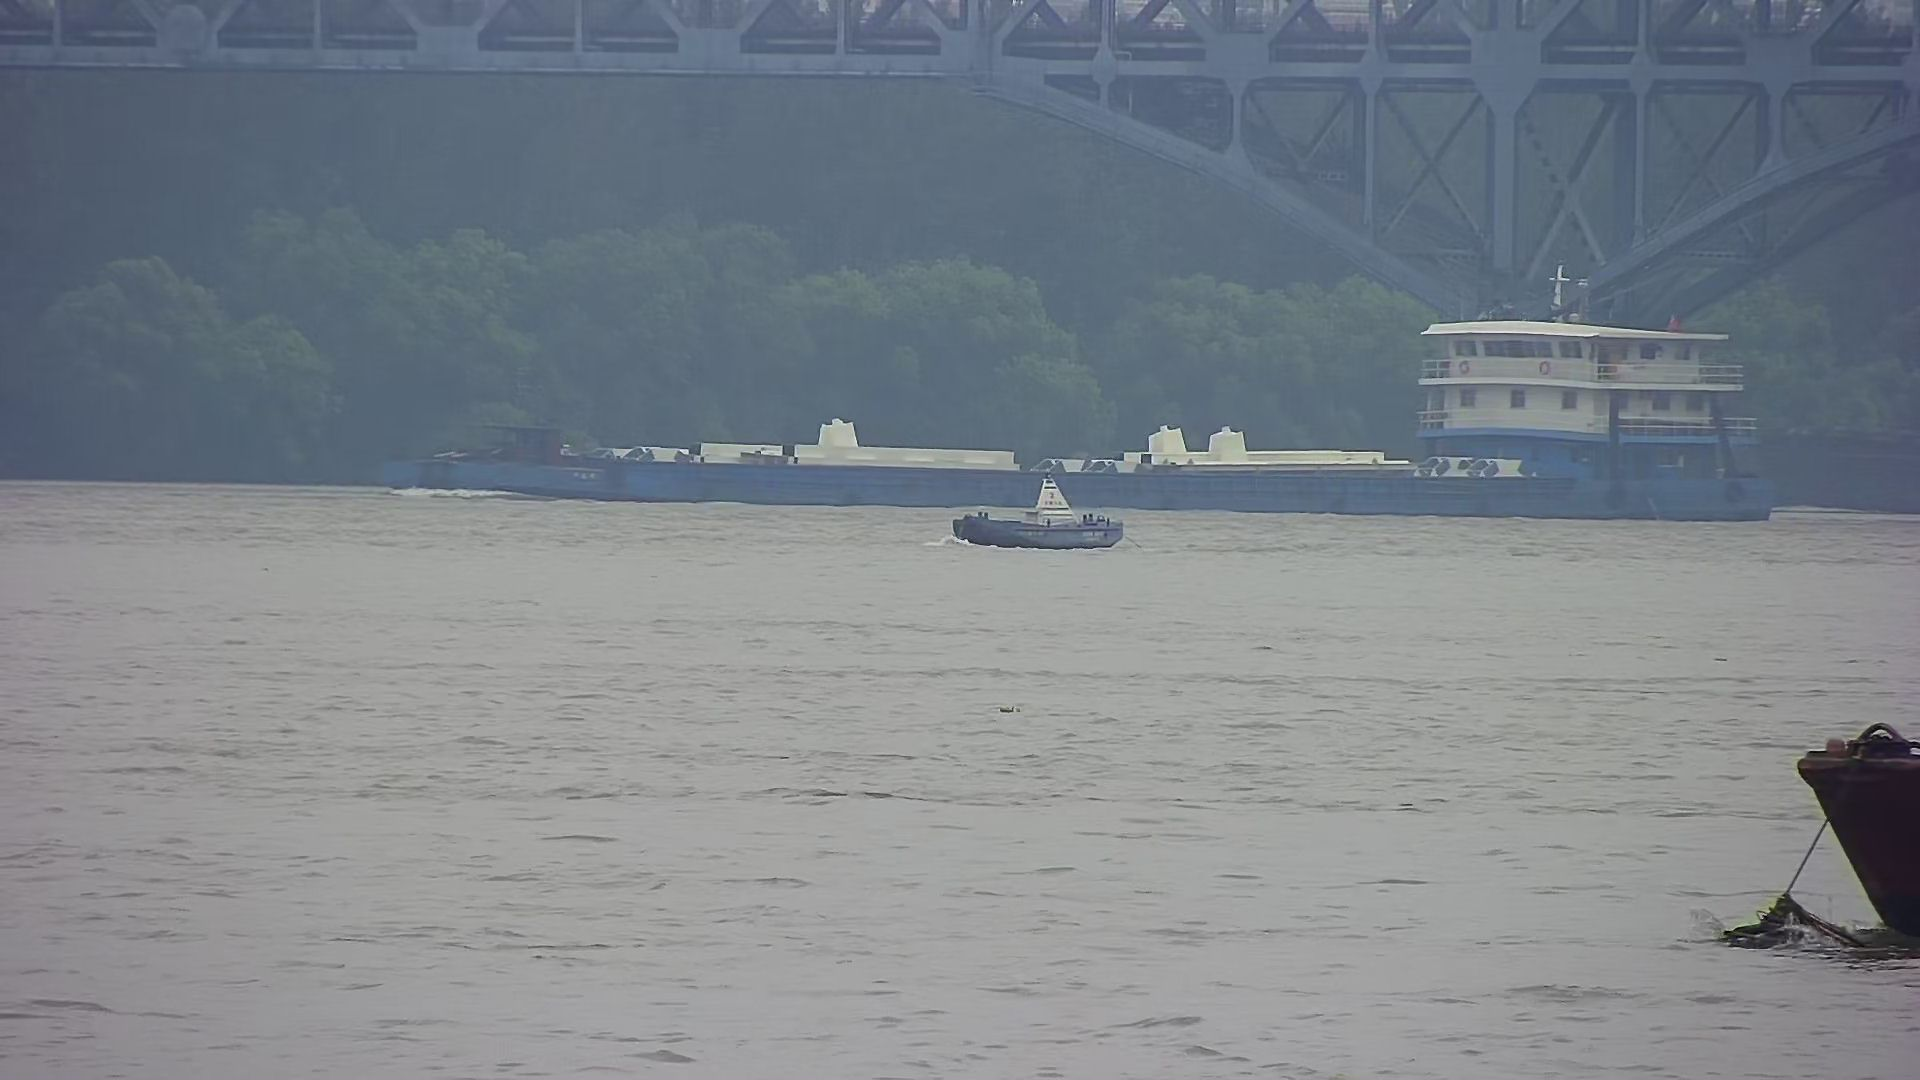boat: (942, 460, 1150, 559)
bridge: (1, 1, 1917, 407)
ship: (349, 252, 1792, 525)
